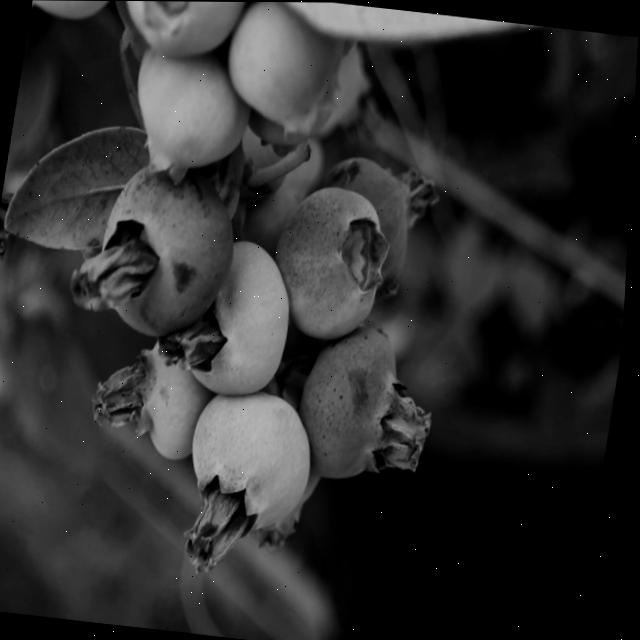RipeBlueBerry: (85, 156, 250, 346), (292, 319, 423, 490)
Semi-RipeBlueBerry: (266, 178, 402, 345)
UnripeBlueBerry: (179, 384, 328, 556), (169, 237, 302, 402), (119, 35, 258, 182), (217, 1, 347, 136)
